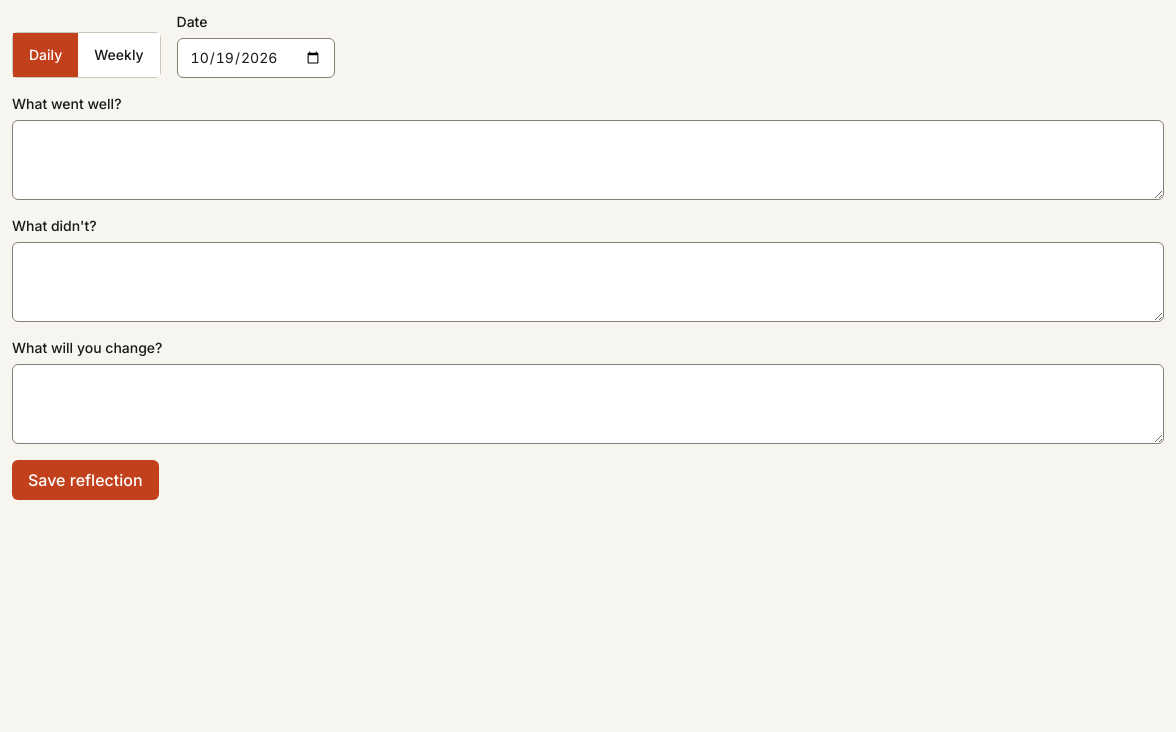
Test: ReflectionForm › requires at least one field
Click the button "Save reflection": (85, 480) [12,460,158,500]
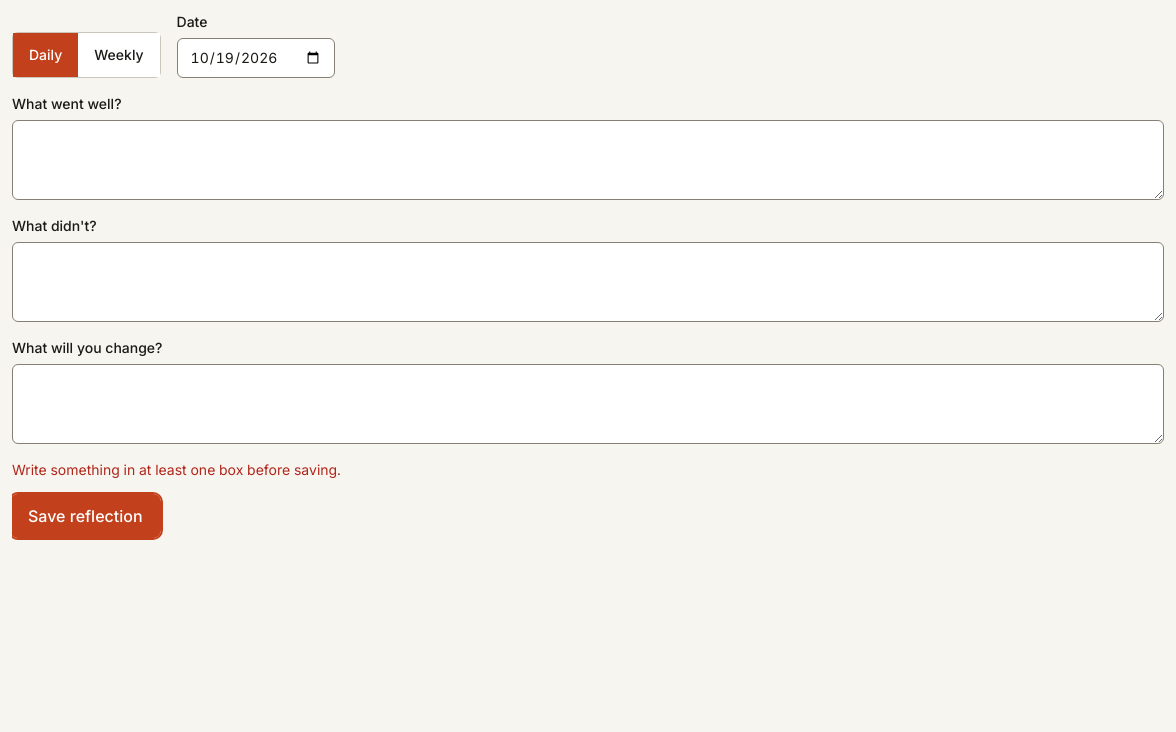
Check: the message shows "at least one", box [12,461,341,478]
